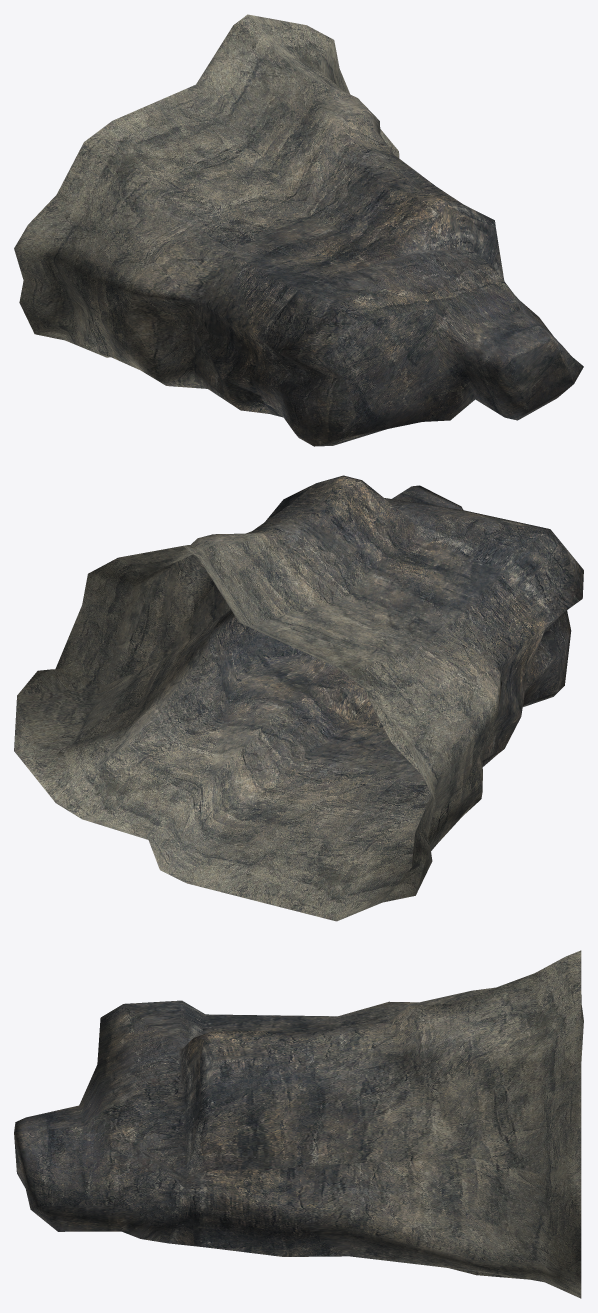
The model's file is tdr_c_rock_c.obj.
The picture shows the model from 3 angles, top to bottom: view 1: azimuth 30°, elevation 25°; view 2: azimuth 150°, elevation 25°; view 3: azimuth 270°, elevation 25°; orthographic projection. The views are drawn at different scales.
Parts seen in each view (by area): view 1: Body.rock_desert_c.smd.mesh_0; view 2: Body.rock_desert_c.smd.mesh_0; view 3: Body.rock_desert_c.smd.mesh_0.
Boxes of the visible parts, box(x1,y1,x2,y2) form: Body.rock_desert_c.smd.mesh_0: box(14, 14, 583, 446); Body.rock_desert_c.smd.mesh_0: box(14, 475, 583, 921); Body.rock_desert_c.smd.mesh_0: box(14, 950, 583, 1298).
Size of the model in its own units: 221 by 169 by 259.
1 material, 1 textured.
